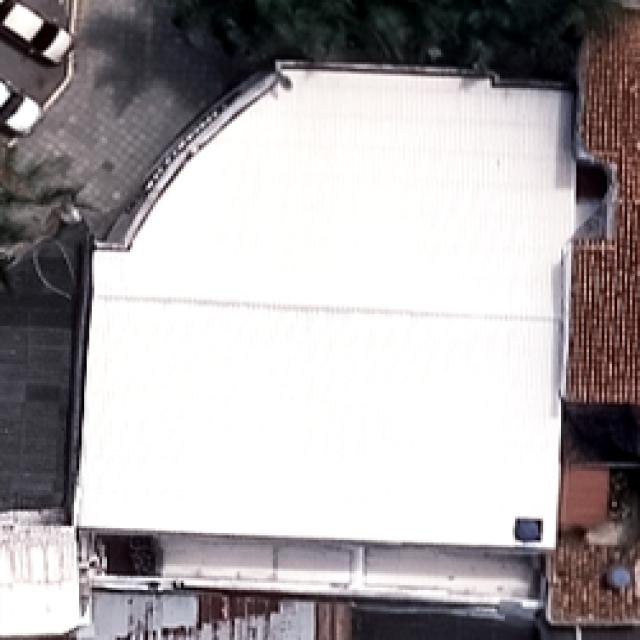Batiment: (78, 64, 575, 549), (568, 11, 636, 403), (548, 532, 639, 626)
